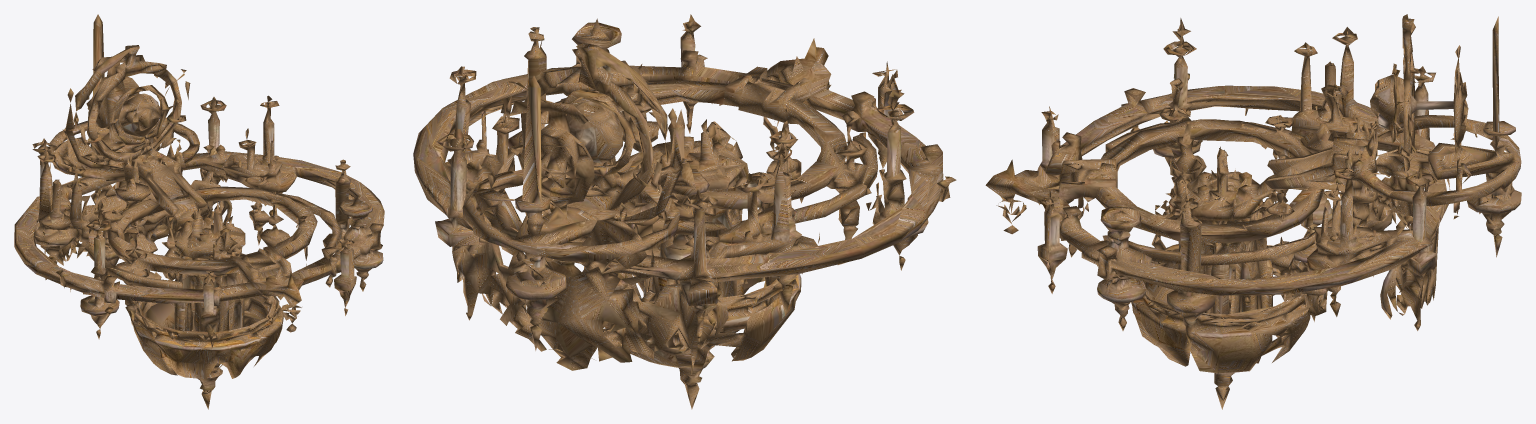
File: Celestial_Golden_Cita.glb
The picture shows the model from 3 angles, left to right: view 1: azimuth 30°, elevation 25°; view 2: azimuth 150°, elevation 25°; view 3: azimuth 270°, elevation 25°; orthographic projection. The views are drawn at different scales.
Parts seen in each view (by area): view 1: Celestial_Golden_Cita; view 2: Celestial_Golden_Cita; view 3: Celestial_Golden_Cita.
Boxes of the visible parts, bbox=[...] form: Celestial_Golden_Cita: bbox=[14, 14, 384, 409]; Celestial_Golden_Cita: bbox=[413, 14, 956, 409]; Celestial_Golden_Cita: bbox=[985, 14, 1521, 409].
Size of the model in its own units: 1.7 by 1.54 by 1.9.
1 material, 1 textured.
